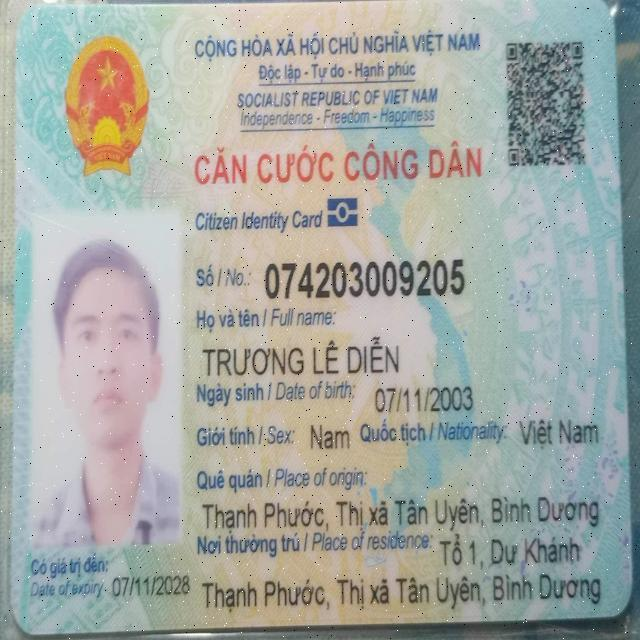current_place: (199, 569, 603, 614), (435, 530, 589, 570)
dob: (372, 378, 478, 417)
expire_date: (110, 568, 194, 604)
gender: (300, 418, 355, 460)
id: (258, 255, 475, 303)
name: (194, 334, 406, 379)
nationality: (516, 414, 604, 453)
origin_place: (201, 491, 608, 533)
